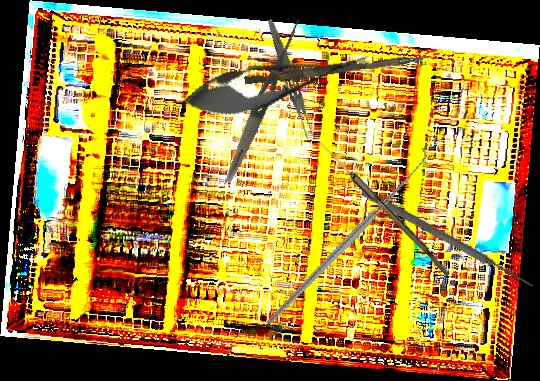Dressing Forceps: (221, 15, 305, 186), (261, 17, 318, 141)
Hook Surgical: (230, 147, 461, 325)
Micro Scissor: (174, 35, 376, 129)
Pusher: (359, 186, 537, 292), (244, 47, 430, 90)
Surgical Spoon: (315, 138, 453, 277)
